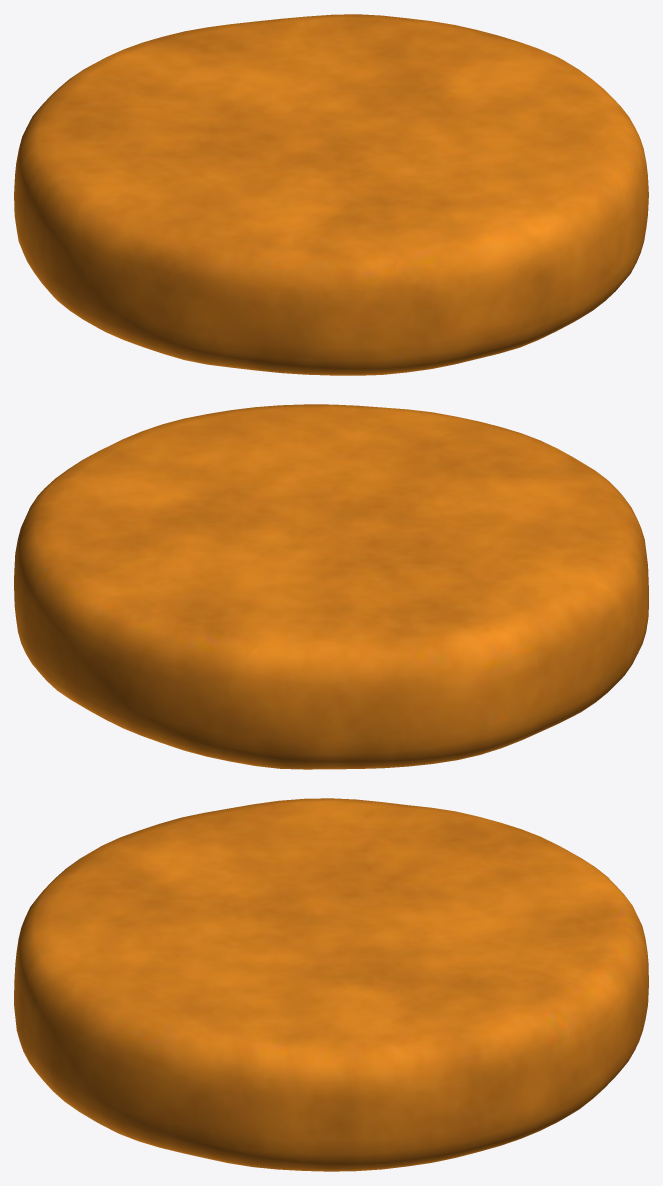
File: candy_smarty.glb
3 renders of one model, top to bottom at view 1: azimuth 30°, elevation 25°; view 2: azimuth 150°, elevation 25°; view 3: azimuth 270°, elevation 25°, orthographic.
Visible parts, largest first — view 1: candy_smarty; view 2: candy_smarty; view 3: candy_smarty.
Boxes of the visible parts, <box> form: candy_smarty: <box>14,14,648,375</box>; candy_smarty: <box>14,404,648,769</box>; candy_smarty: <box>14,798,648,1171</box>.
Bounding box in the file's own units: 0.719 × 0.164 × 0.7123.
1 material, 1 textured.
